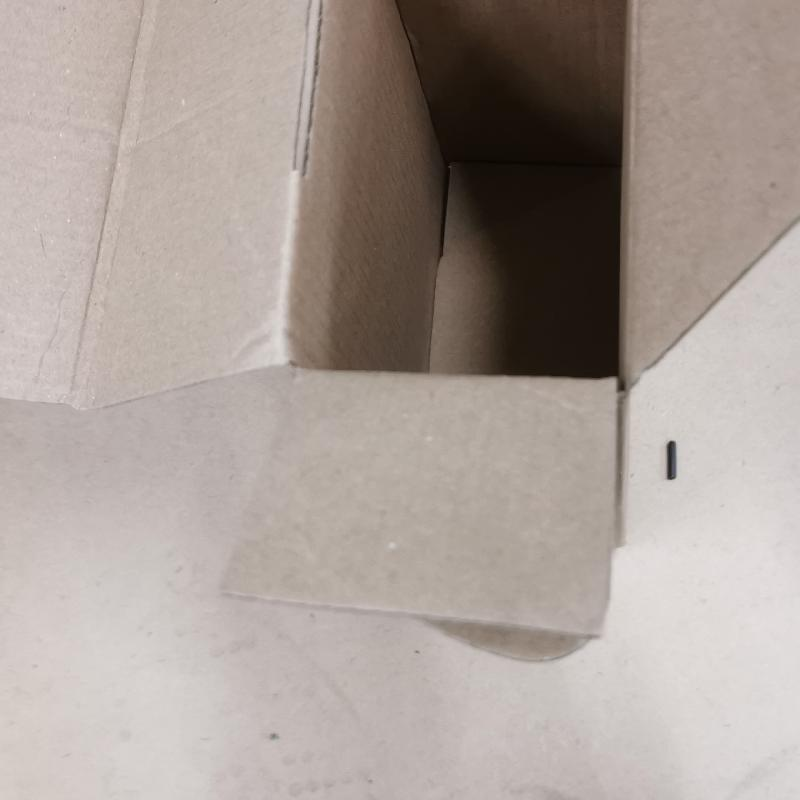boxes: (3, 1, 799, 661)
